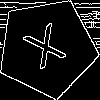X: (22, 23, 74, 79)
